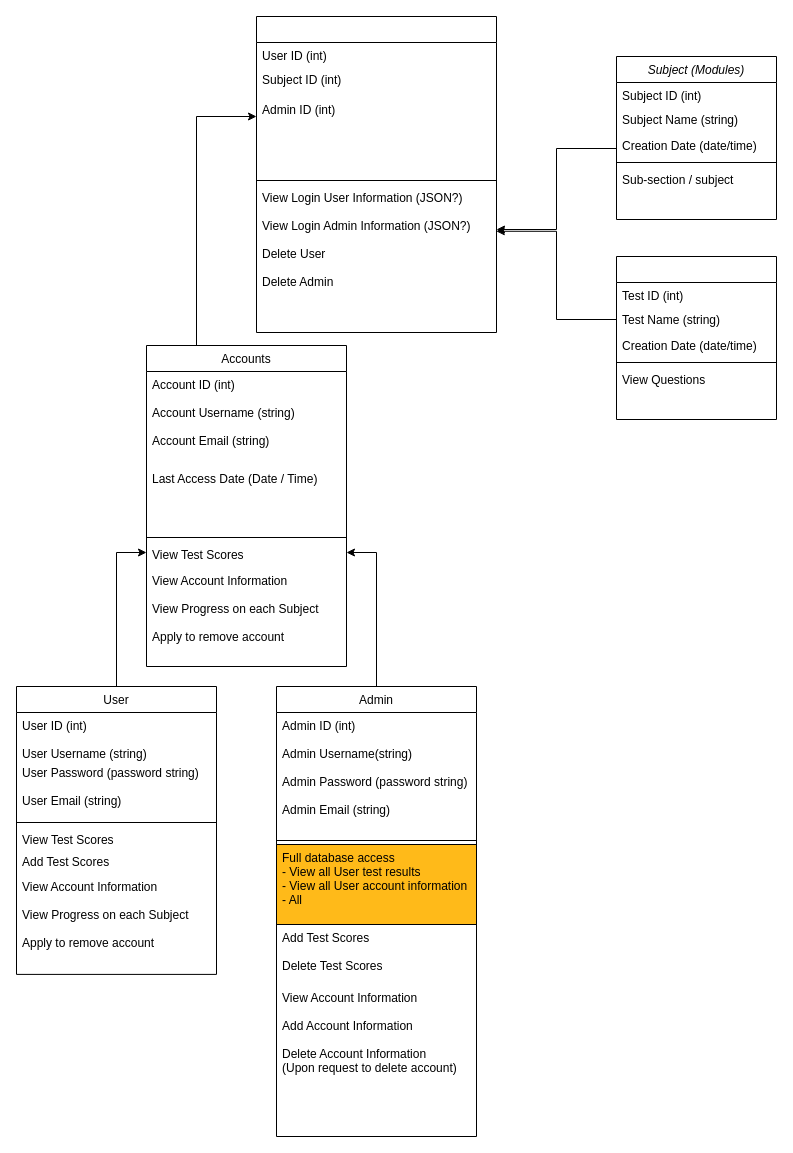
Image size: 793x1153. Some labels were removed from this diagram. The box of each missing label's shape, as (x1, y1, x2, y2) in pixels:
Database: (256, 16, 496, 332)
Test / Quiz: (616, 256, 776, 420)
